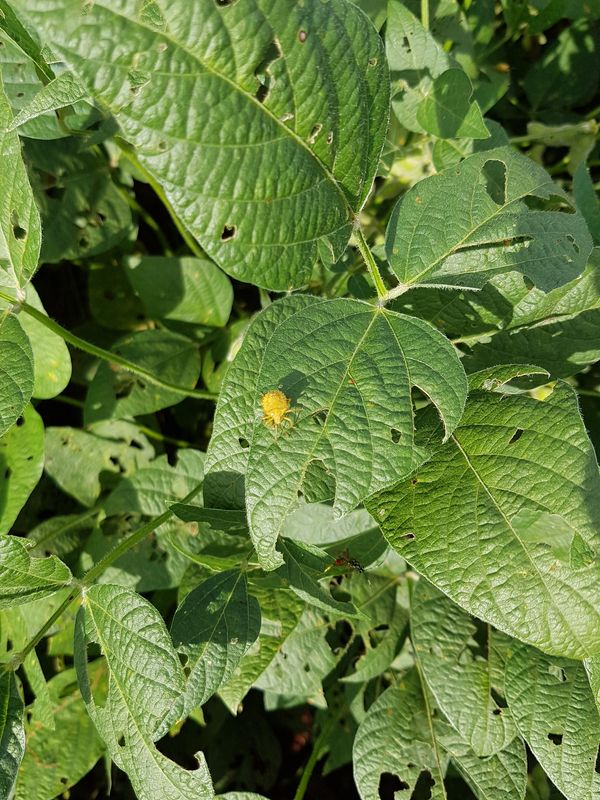Euschistus_heros_ninfa: (247, 379, 306, 440)
